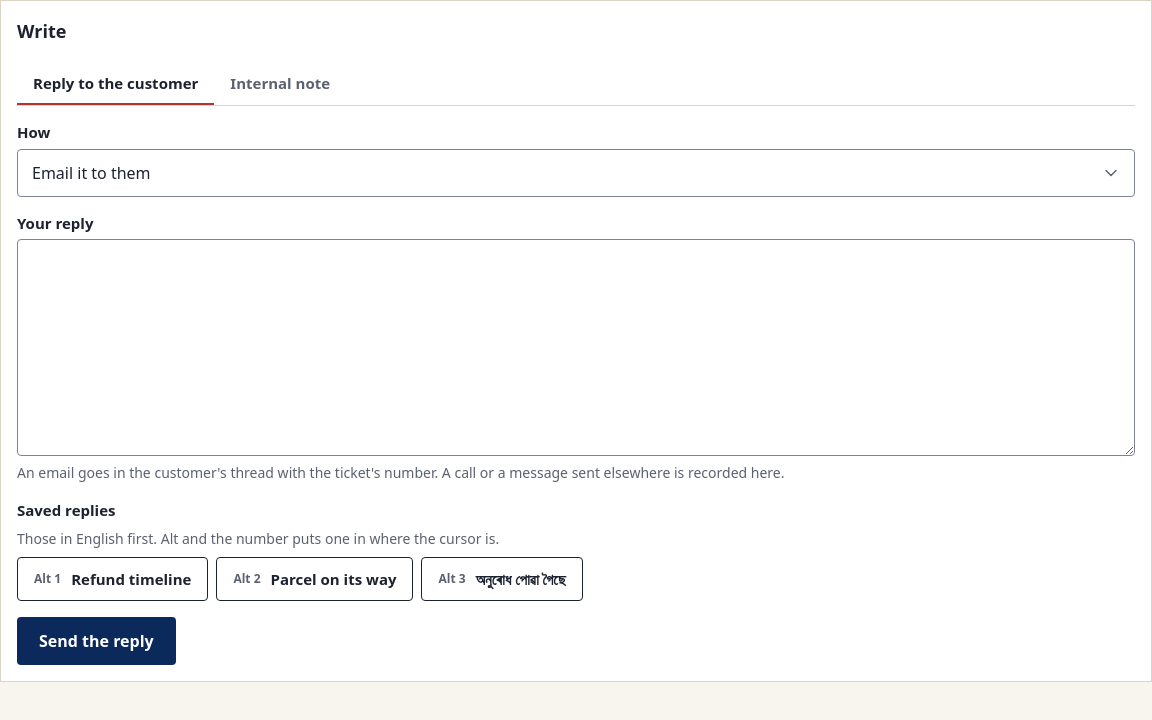
Test: Compose › saves a note naming colleagues (never oneself)
Click the radio button labelled "Internal note".
click(280, 83)  # box [230,73,330,93]
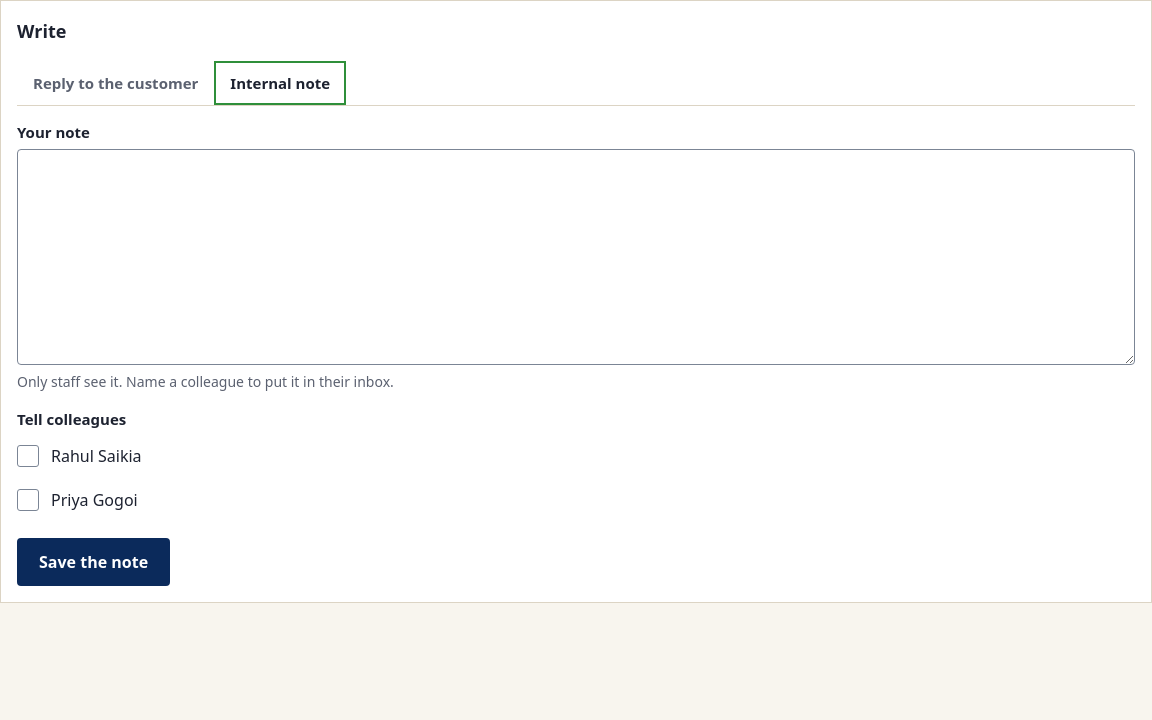
Click the checkbox labelled "Rahul Saikia".
click(28, 456)  # box [17,445,39,467]
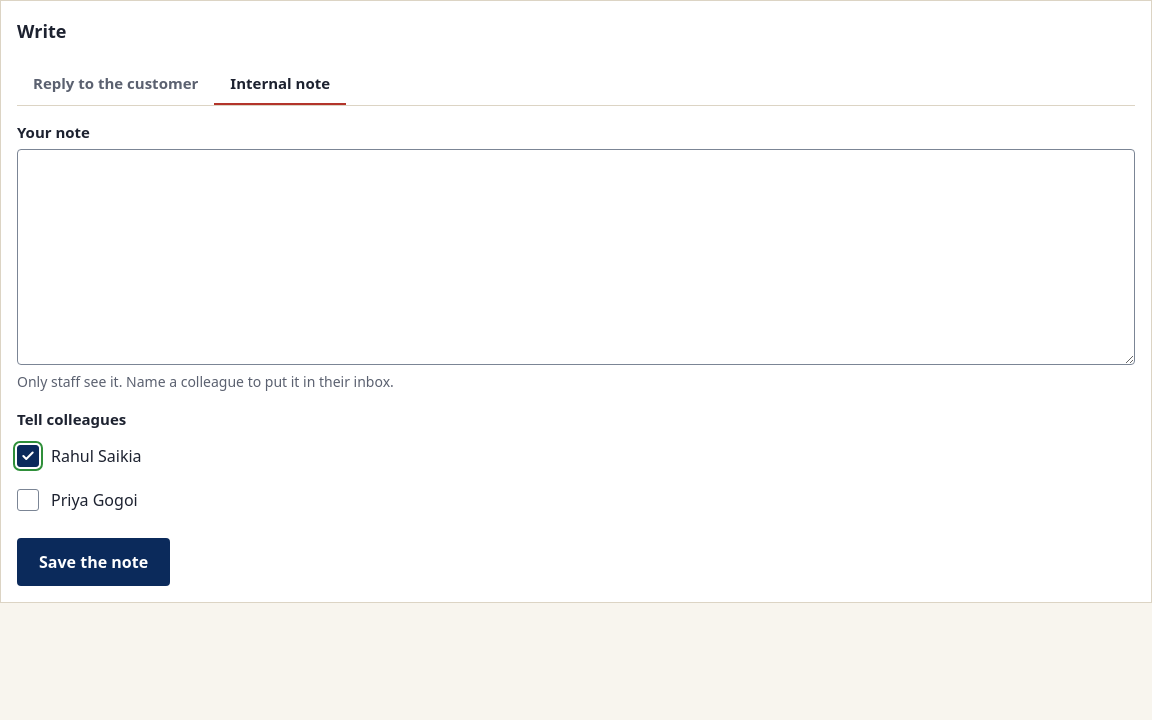
Type "Can you call the courier?" into the text box labelled "Your note".
click(576, 257); type("Can you call the courier?")  # box [17,149,1135,365]
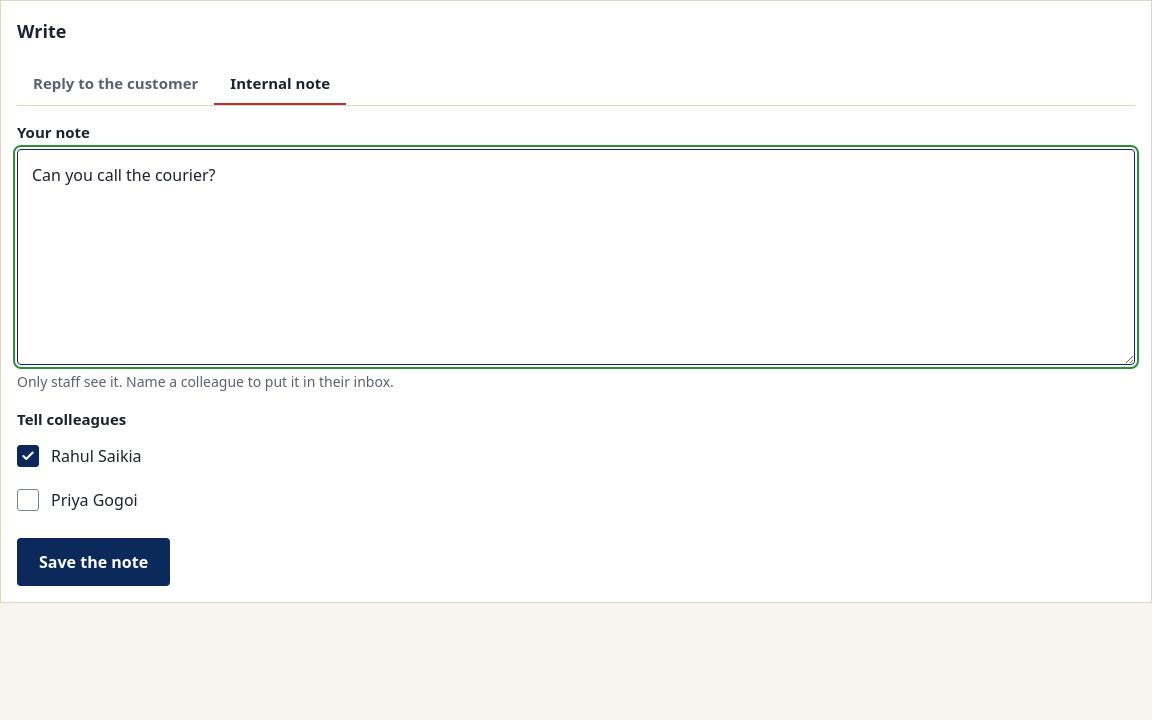
Click the button "Save the note".
click(94, 562)  # box [17,538,170,586]
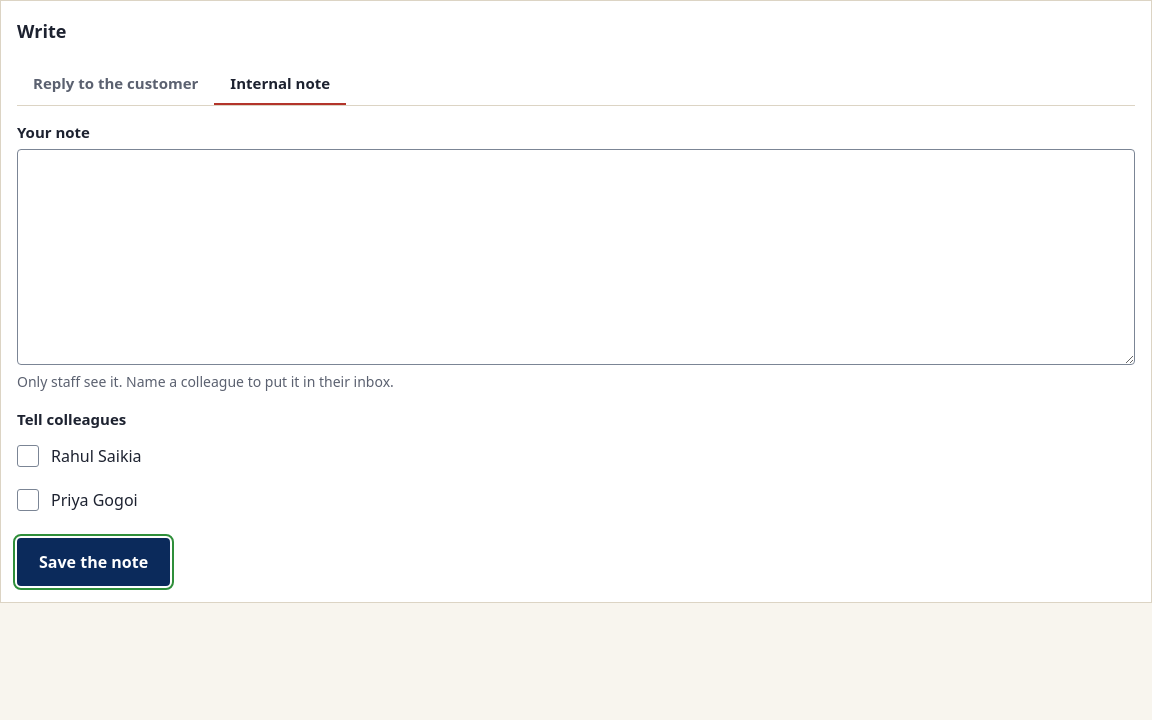
Expected: the checkbox labelled "Rahul Saikia" is not checked, [17,445,39,467]
Expected: the text box labelled "Your note" is empty, [17,149,1135,365]
